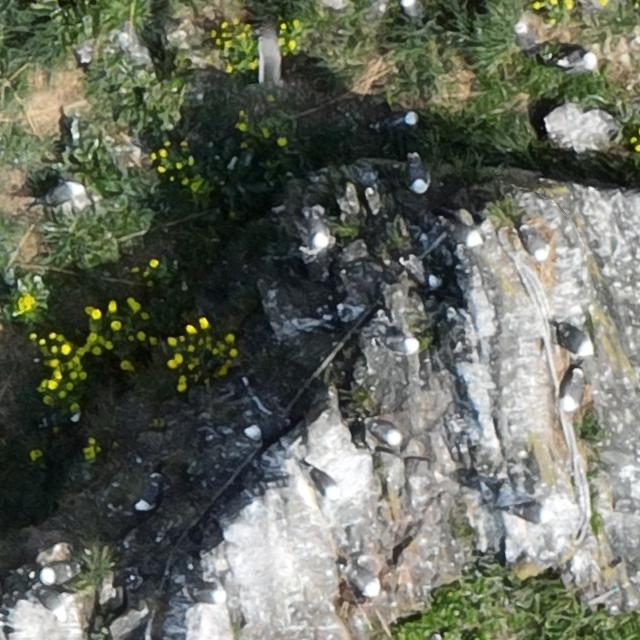umineko: (46, 181, 86, 212), (349, 567, 382, 600), (560, 328, 593, 355), (309, 467, 338, 496), (523, 229, 547, 260), (370, 423, 400, 447), (510, 504, 549, 522), (407, 156, 427, 191), (562, 375, 582, 409), (449, 228, 482, 248), (561, 50, 594, 69), (42, 564, 72, 584), (385, 336, 418, 354), (314, 217, 330, 254), (139, 479, 159, 508), (386, 114, 415, 130), (192, 589, 220, 604), (401, 0, 420, 19)
